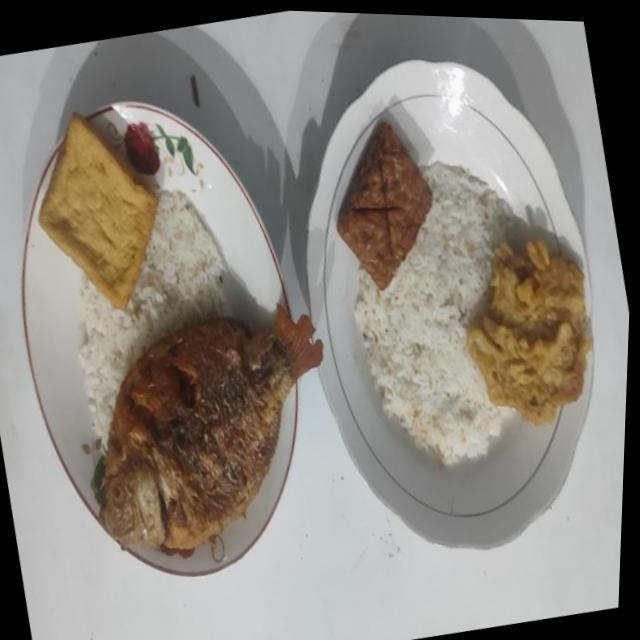ikan_mujair: (101, 306, 322, 549)
nasi_putih: (354, 162, 512, 464), (79, 190, 232, 446)
tahu_goreng: (40, 115, 158, 310)
tempe_goreng: (337, 123, 432, 290)
